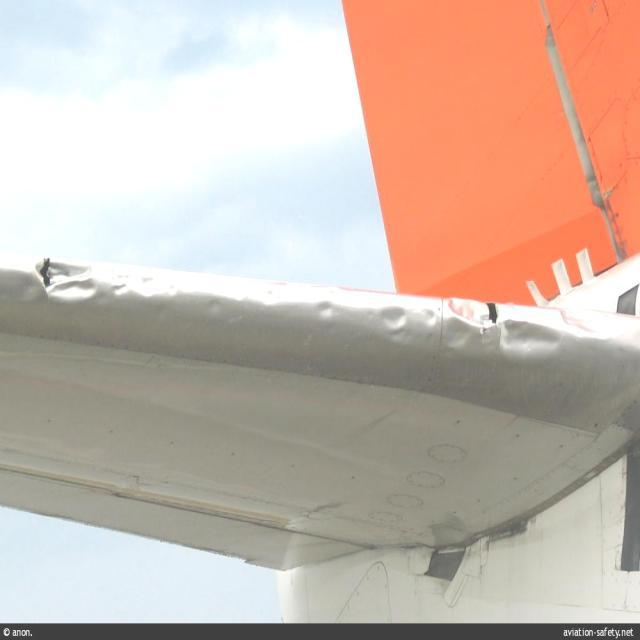dent: (32, 261, 615, 362)
